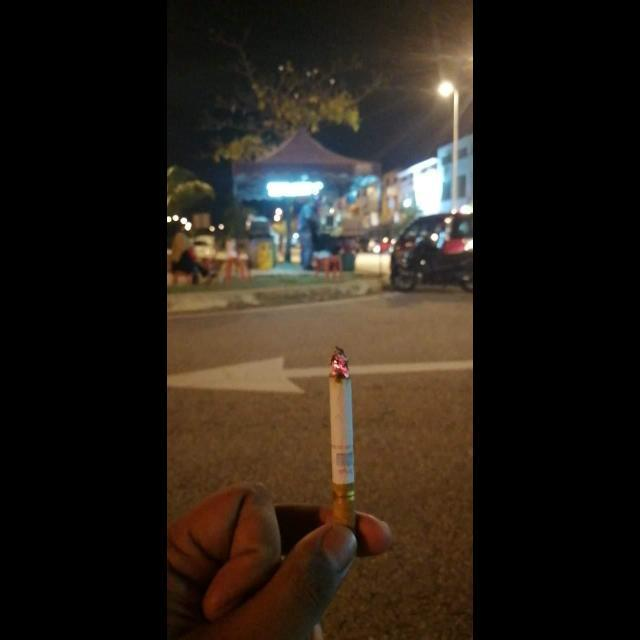rokok: (321, 342, 369, 528)
